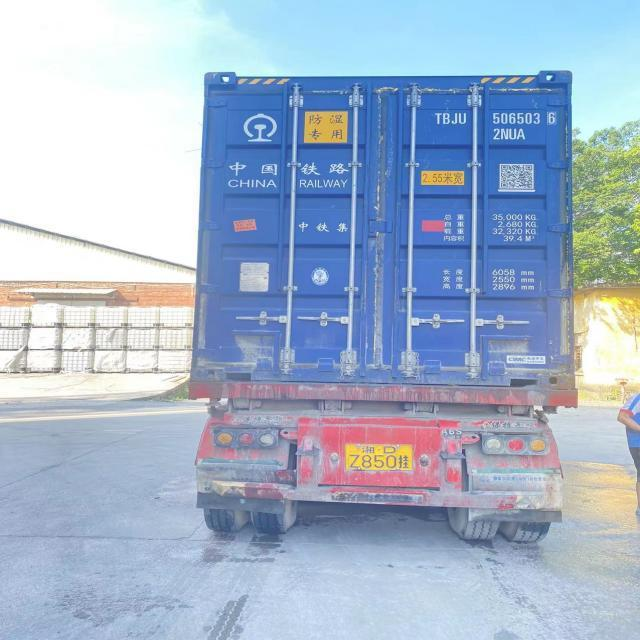ISO: (492, 127, 525, 143)
container_number: (434, 110, 562, 128)
